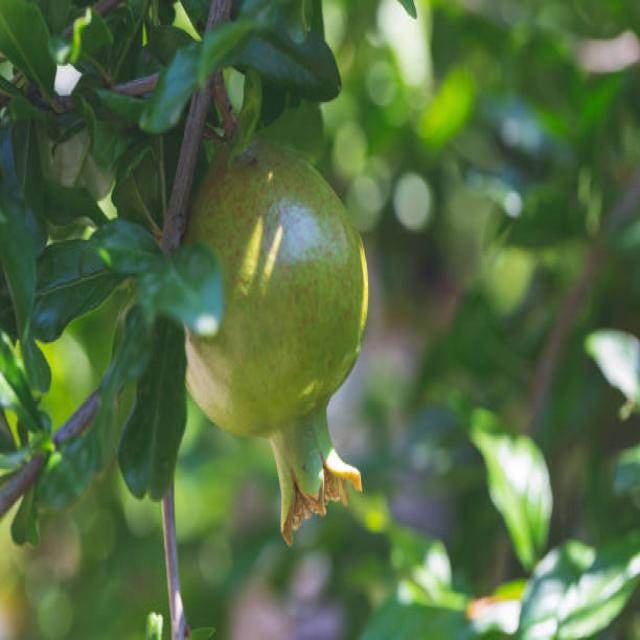Unripe: (168, 123, 368, 542)
